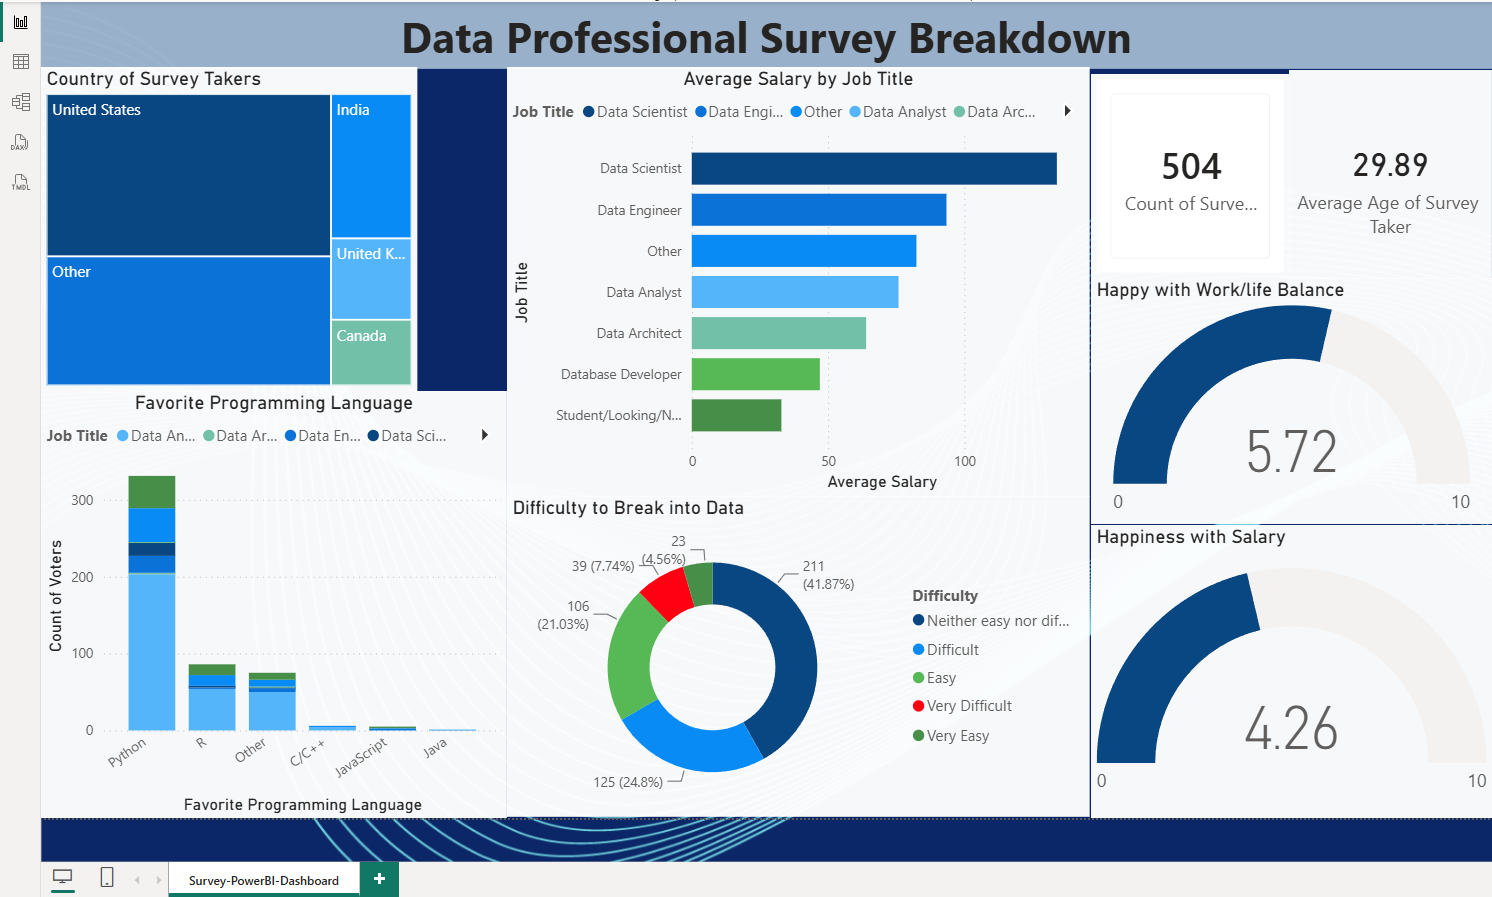

The page's visual inventory and layout, read from the dashboard file:
{"tool":"powerbi","page":{"name":"Survey-PowerBI-Dashboard","canvas":[1280,720],"ordinal":0},"visuals":[{"type":"textbox","box":[0,0,1280,59.2],"z":0},{"type":"cardVisual","fields":{"Data":["CountNonNull(Data Professional Survey.Unique ID)"]},"box":[925.8,63.4,175.2,180.2],"z":1000},{"type":"card","fields":{"Values":["Avg(Data Professional Survey.Q10 - Current Age)"]},"box":[1101,59.7,179,183.9],"z":2000},{"type":"barChart","title":"Average Salary by Job Title","fields":{"Category":["Data Professional Survey.Q1 - Which Title Best Fits your Current Role?.1"],"Y":["Avg(Data Professional Survey.Average Salary)"],"Series":["Data Professional Survey.Q1 - Which Title Best Fits your Current Role?.1"]},"box":[411.3,57.2,514.5,379],"z":3000},{"type":"columnChart","title":"Favorite Programming Language","fields":{"Category":["Data Professional Survey.Q5 - Favorite Programming Language.1"],"Y":["CountNonNull(Data Professional Survey.Unique ID)"],"Series":["Data Professional Survey.Q1 - Which Title Best Fits your Current Role?.1"]},"box":[0,343,411.3,377.8],"z":4000},{"type":"treemap","title":"Country of Survey Takers","fields":{"Group":["Data Professional Survey.Q11 - Which Country do you live in?.1"],"Values":["CountNonNull(Data Professional Survey.Q11 - Which Country do you live in?.1)"]},"box":[0,57.2,331.8,285.8],"z":5000},{"type":"gauge","title":"Happy with Work/life Balance","fields":{"Y":["Avg(Data Professional Survey.Q6 - How Happy are you in your Current Position with the following? (Work/Life Balance))"],"MinValue":["Min(Data Professional Survey.Q6 - How Happy are you in your Current Position with the following? (Work/Life Balance))"],"MaxValue":["Max(Data Professional Survey.Q6 - How Happy are you in your Current Position with the following? (Work/Life Balance))"]},"box":[925.8,243.6,354.2,217.5],"z":6000},{"type":"gauge","title":"Happiness with Salary","fields":{"Y":["Avg(Data Professional Survey.Q6 - How Happy are you in your Current Position with the following? (Salary))"],"MinValue":["Min(Data Professional Survey.Q6 - How Happy are you in your Current Position with the following? (Salary))"],"MaxValue":["Max(Data Professional Survey.Q6 - How Happy are you in your Current Position with the following? (Salary))"]},"box":[925.8,461,354.2,259.7],"z":7000},{"type":"donutChart","title":"Difficulty to Break into Data","fields":{"Category":["Data Professional Survey.Q7 - How difficult was it for you to break into Data?"],"Y":["CountNonNull(Data Professional Survey.Q7 - How difficult was it for you to break into Data?)"]},"box":[411.3,436.2,514.5,283.3],"z":8000}]}

Visuals, with their boxes in screenshot pixels (x1, y1, x2, y2):
textbox: region(27, 0, 1491, 60)
cardVisual - CountNonNull(Data Professional Survey.Unique ID): region(1091, 65, 1293, 272)
card - Avg(Data Professional Survey.Q10 - Current Age): region(1293, 61, 1491, 272)
"Average Salary by Job Title" barChart: region(500, 58, 1091, 494)
"Favorite Programming Language" columnChart: region(27, 387, 500, 821)
"Country of Survey Takers" treemap: region(27, 58, 409, 387)
"Happy with Work/life Balance" gauge: region(1091, 272, 1491, 522)
"Happiness with Salary" gauge: region(1091, 522, 1491, 821)
"Difficulty to Break into Data" donutChart: region(500, 494, 1091, 819)
